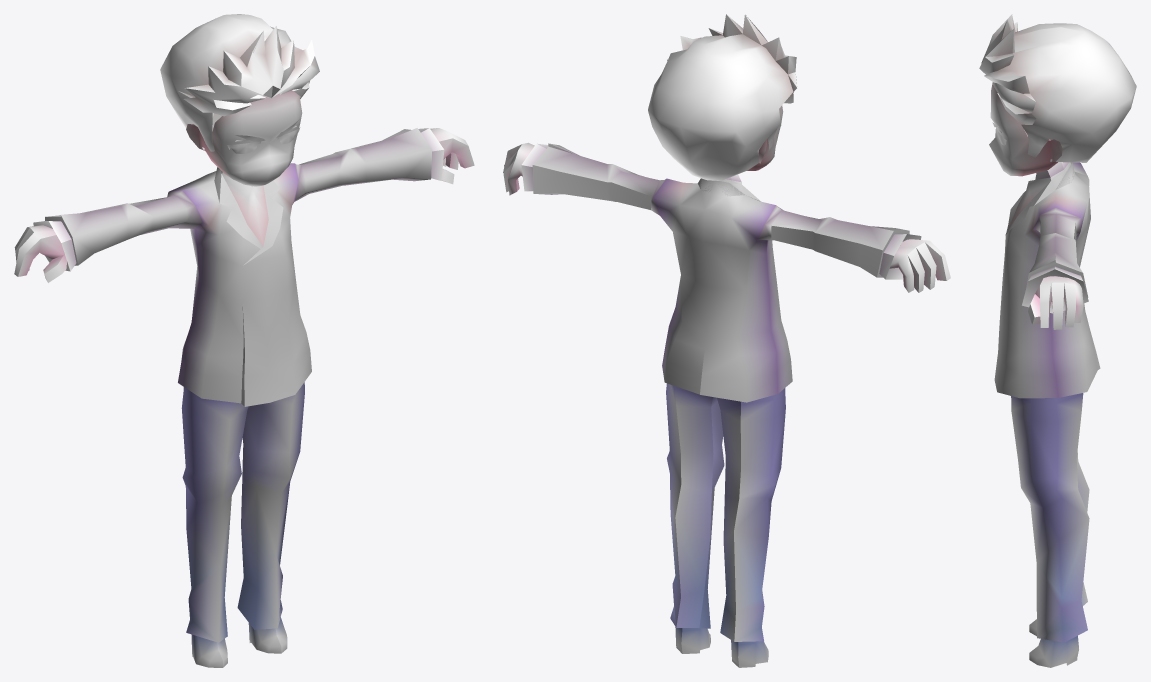
File: man.FBX
The picture shows the model from 3 angles, left to right: view 1: azimuth 30°, elevation 25°; view 2: azimuth 150°, elevation 25°; view 3: azimuth 270°, elevation 25°; orthographic projection. The views are drawn at different scales.
Visible parts, largest first — view 1: man_yifu, man_toufa, man_tou, man_lingjie; view 2: man_yifu, man_toufa, man_tou; view 3: man_yifu, man_toufa, man_tou, man_lingjie.
Boxes of the visible parts, x1,y1,x2,y2 form: man_yifu: (45, 128, 432, 667); man_toufa: (33, 14, 444, 271); man_tou: (14, 90, 474, 282); man_lingjie: (221, 170, 268, 246); man_yifu: (532, 143, 909, 667); man_toufa: (521, 14, 921, 279); man_tou: (503, 105, 950, 292); man_yifu: (994, 162, 1100, 667); man_toufa: (979, 14, 1136, 313); man_tou: (989, 82, 1083, 329); man_lingjie: (1007, 162, 1070, 230).
Bounding box in the file's own units: 124 × 166 × 37.84.
